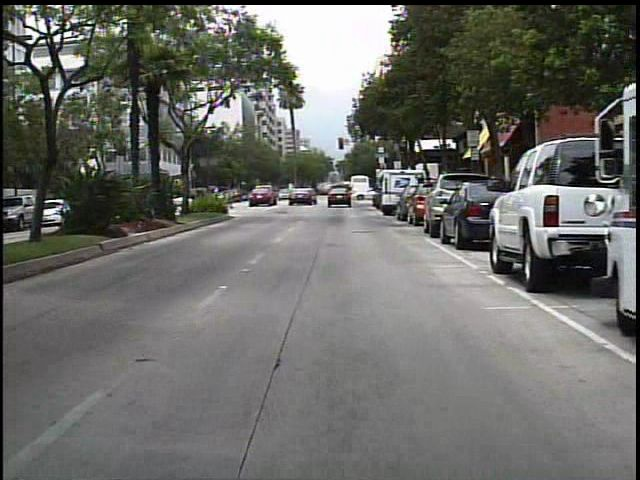person: (341, 181, 358, 202), (304, 184, 317, 205)
